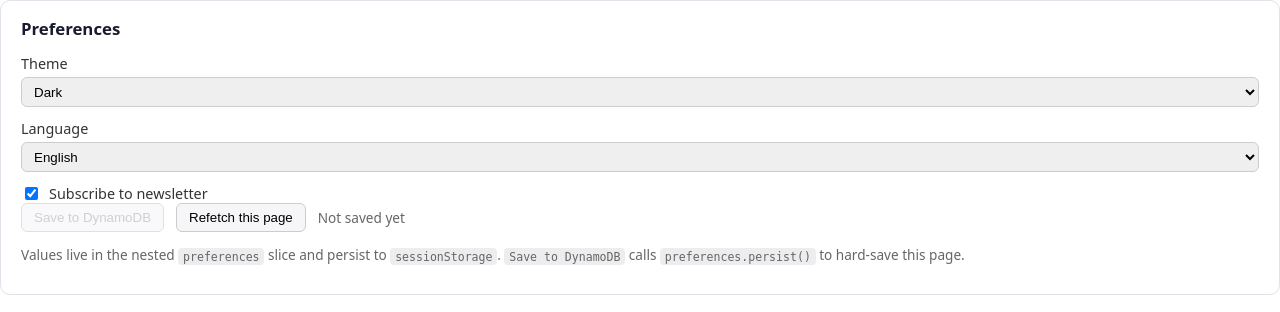
<PreferencesPage /> › changing a select stages it and flips dirty
The width and height of the screenshot is (1280, 312).
Select "French" in the dropdown labelled "Language": (640, 157) x1=21 y1=142 x2=1259 y2=172
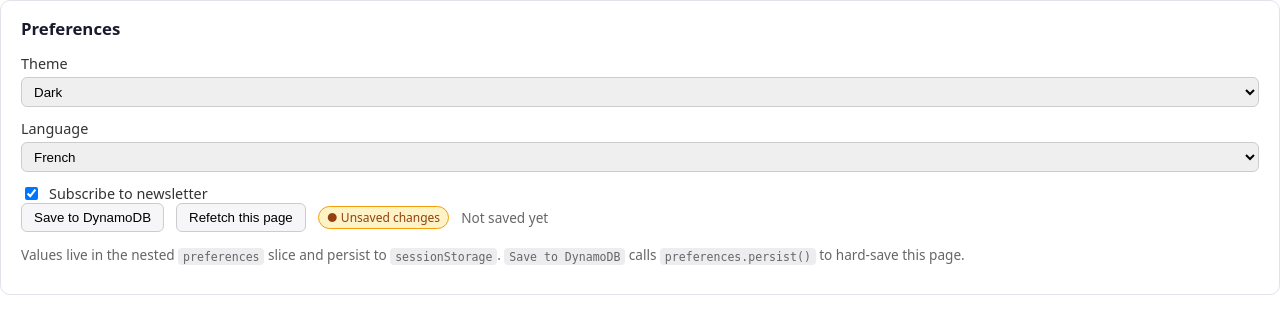
Result: the text "● Unsaved changes" is shown at x1=318 y1=206 x2=449 y2=229
